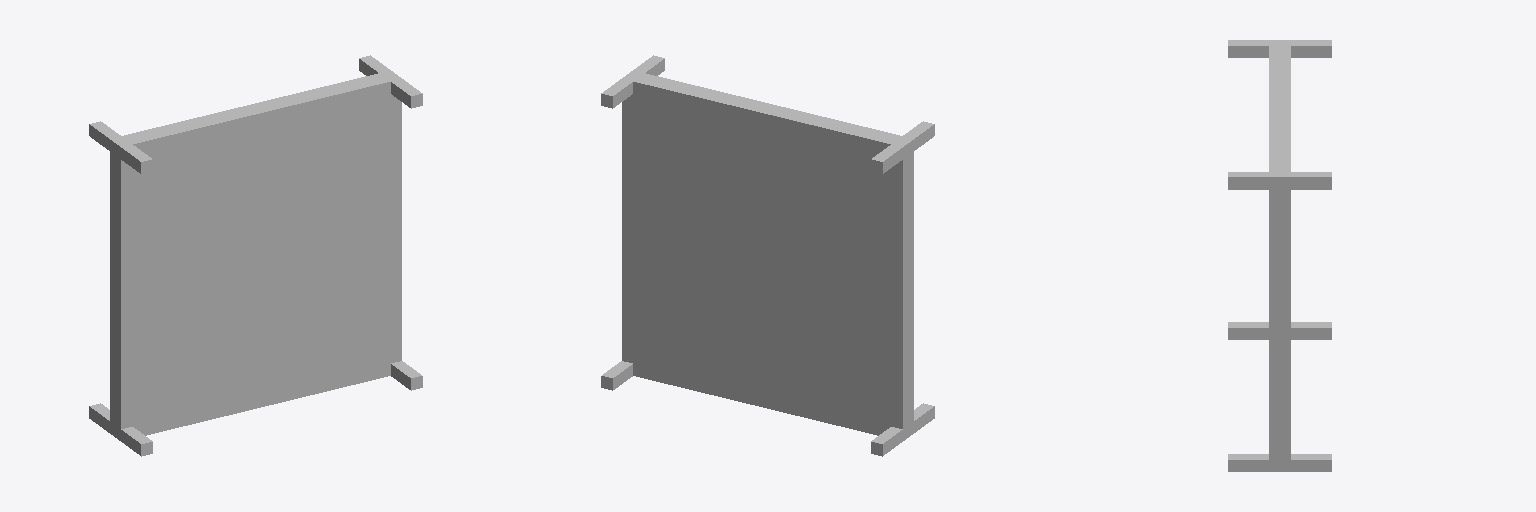
Rendered from BurgerCollision.obj.
3 views of the same model, side by side, from view 1: azimuth 30°, elevation 25°; view 2: azimuth 150°, elevation 25°; view 3: azimuth 270°, elevation 25° (orthographic).
Bounding box in the file's own units: 0.12 × 0.12 × 0.0385.